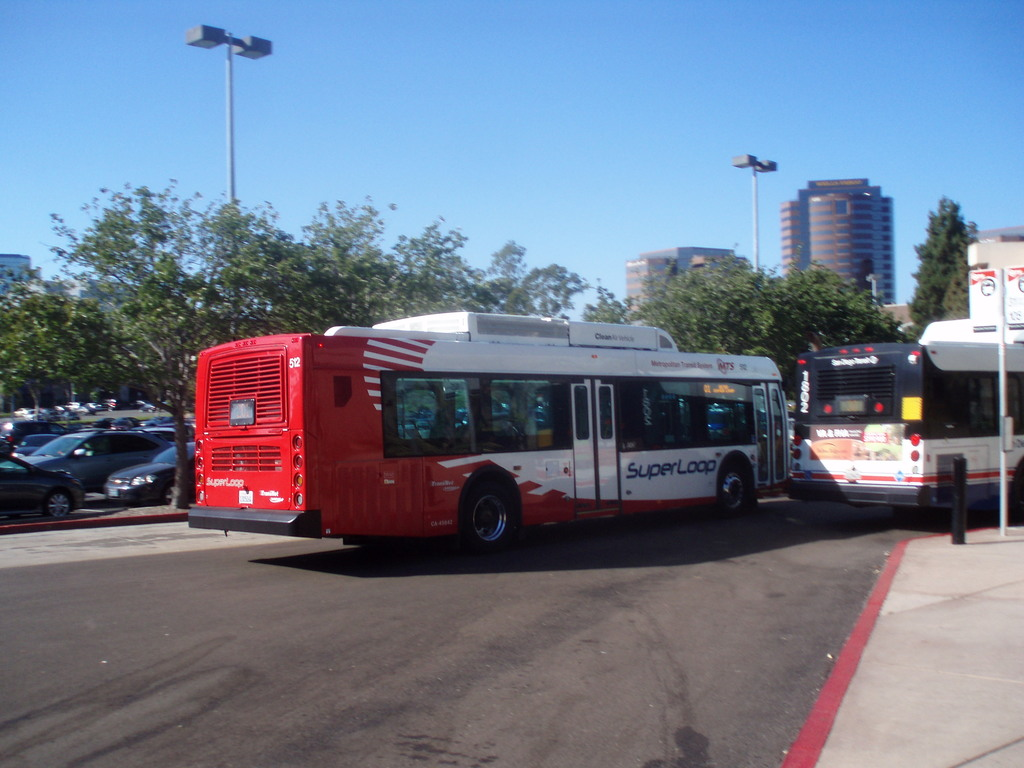Bus: (187, 311, 791, 551), (791, 338, 1023, 515)
